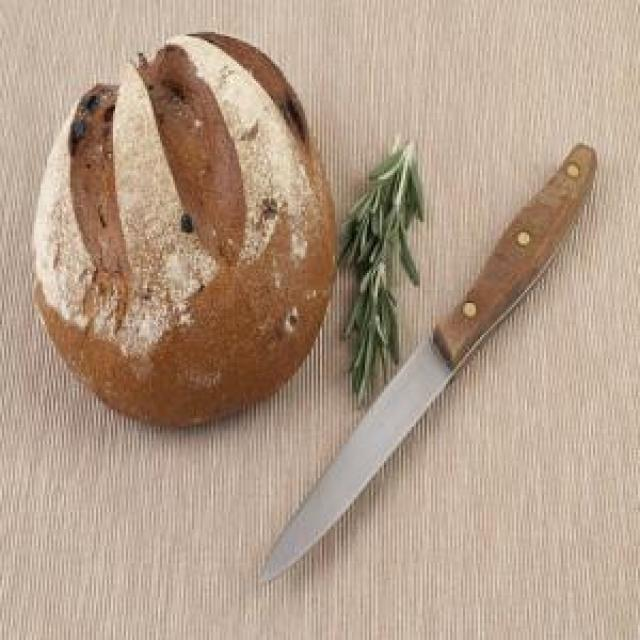knife: (256, 141, 597, 595)
